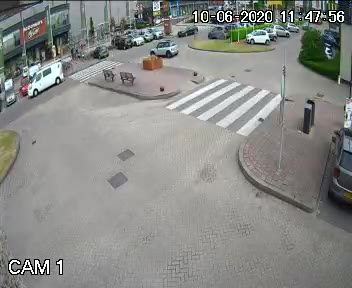car: (22, 64, 75, 98), (148, 40, 180, 58), (172, 24, 201, 38)
